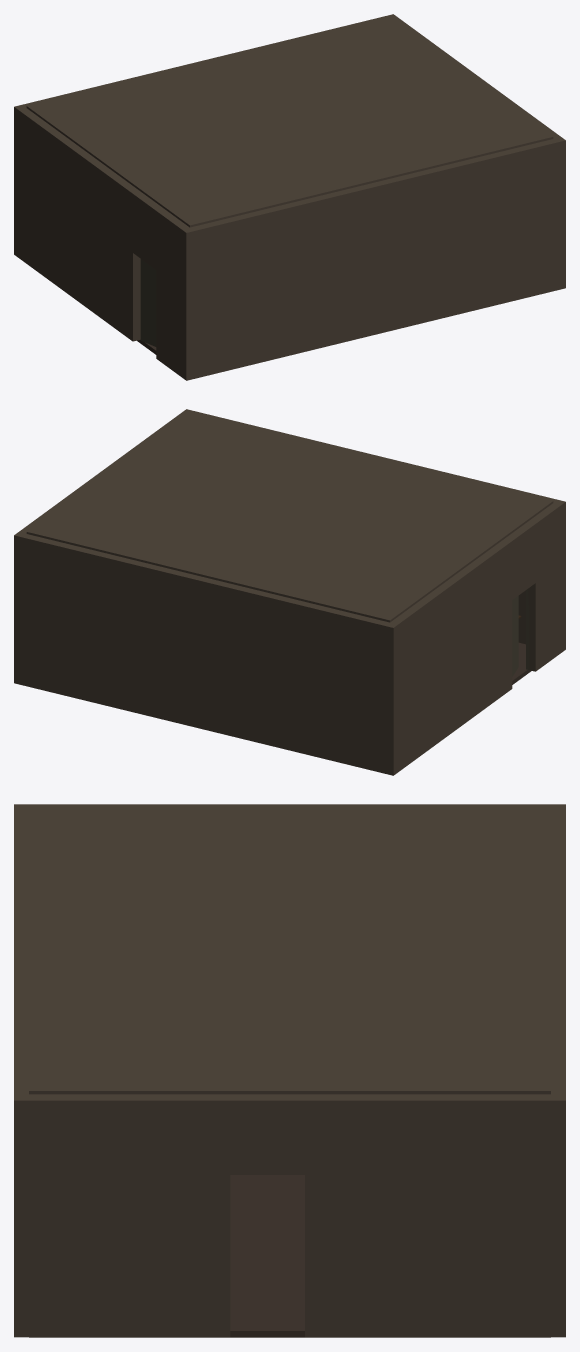
The picture shows the model from 3 angles, top to bottom: view 1: azimuth 30°, elevation 25°; view 2: azimuth 150°, elevation 25°; view 3: azimuth 270°, elevation 25°; orthographic projection. The views are drawn at different scales.
Parts seen in each view (by area): view 1: Z3_Ceiling, Z3_Wall_S, Z3_Wall_W_N, Z3_Wall_W_S, Z3_Wall_N, Z3_Wall_W_Lintel, Z3_KitchenDoor_Leaf, Z3_Wall_E_N; view 2: Z3_Ceiling, Z3_Wall_N, Z3_Wall_W_N, Z3_Wall_W_S, Z3_Wall_S, Z3_Wall_W_Lintel, Z3_KitchenDoor_Leaf, Z3_Wall_E_N; view 3: Z3_Ceiling, Z3_Wall_E_N, Z3_Wall_E_S, Z3_Floor, Z3_Wall_S, Z3_Wall_N, Z3_Wall_E_Lintel, Z3_Wall_W_N.
Boxes of the visible parts, x1,y1,x2,y2 form: Z3_Ceiling: (26,17,553,227); Z3_Wall_S: (181,137,565,380); Z3_Wall_W_N: (18,108,140,341); Z3_Wall_W_S: (156,209,189,376); Z3_Wall_N: (14,14,397,257); Z3_Wall_W_Lintel: (133,192,163,269); Z3_KitchenDoor_Leaf: (140,259,156,346); Z3_Wall_E_N: (393,17,474,75); Z3_Ceiling: (26,412,553,622); Z3_Wall_N: (14,532,398,775); Z3_Wall_W_N: (390,539,512,771); Z3_Wall_W_S: (527,503,561,671); Z3_Wall_S: (182,409,565,652); Z3_Wall_W_Lintel: (505,522,535,599); Z3_KitchenDoor_Leaf: (512,596,518,676); Z3_Wall_E_N: (19,475,100,533); Z3_Ceiling: (29,807,550,1094); Z3_Wall_E_N: (305,1094,550,1337); Z3_Wall_E_S: (29,1094,230,1337); Z3_Floor: (29,1175,550,1337); Z3_Wall_S: (14,804,28,1337); Z3_Wall_N: (551,804,565,1337); Z3_Wall_E_Lintel: (230,1094,304,1174); Z3_Wall_W_N: (185,804,550,807).
Size of the model in its own units: 9.4 by 3.65 by 7.4.
